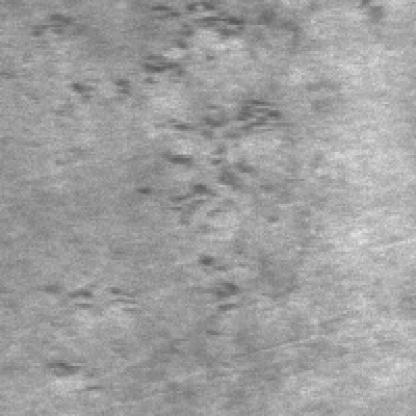rolled-in_scale: (143, 4, 292, 320), (4, 13, 150, 110), (42, 272, 154, 328)
